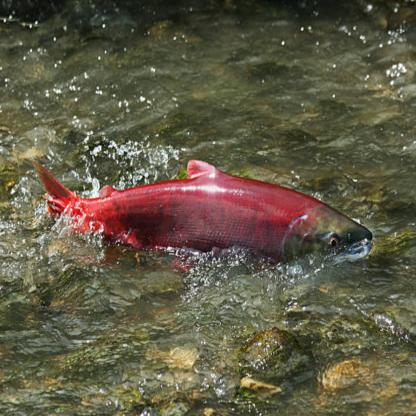sockeye: (31, 147, 374, 275)
